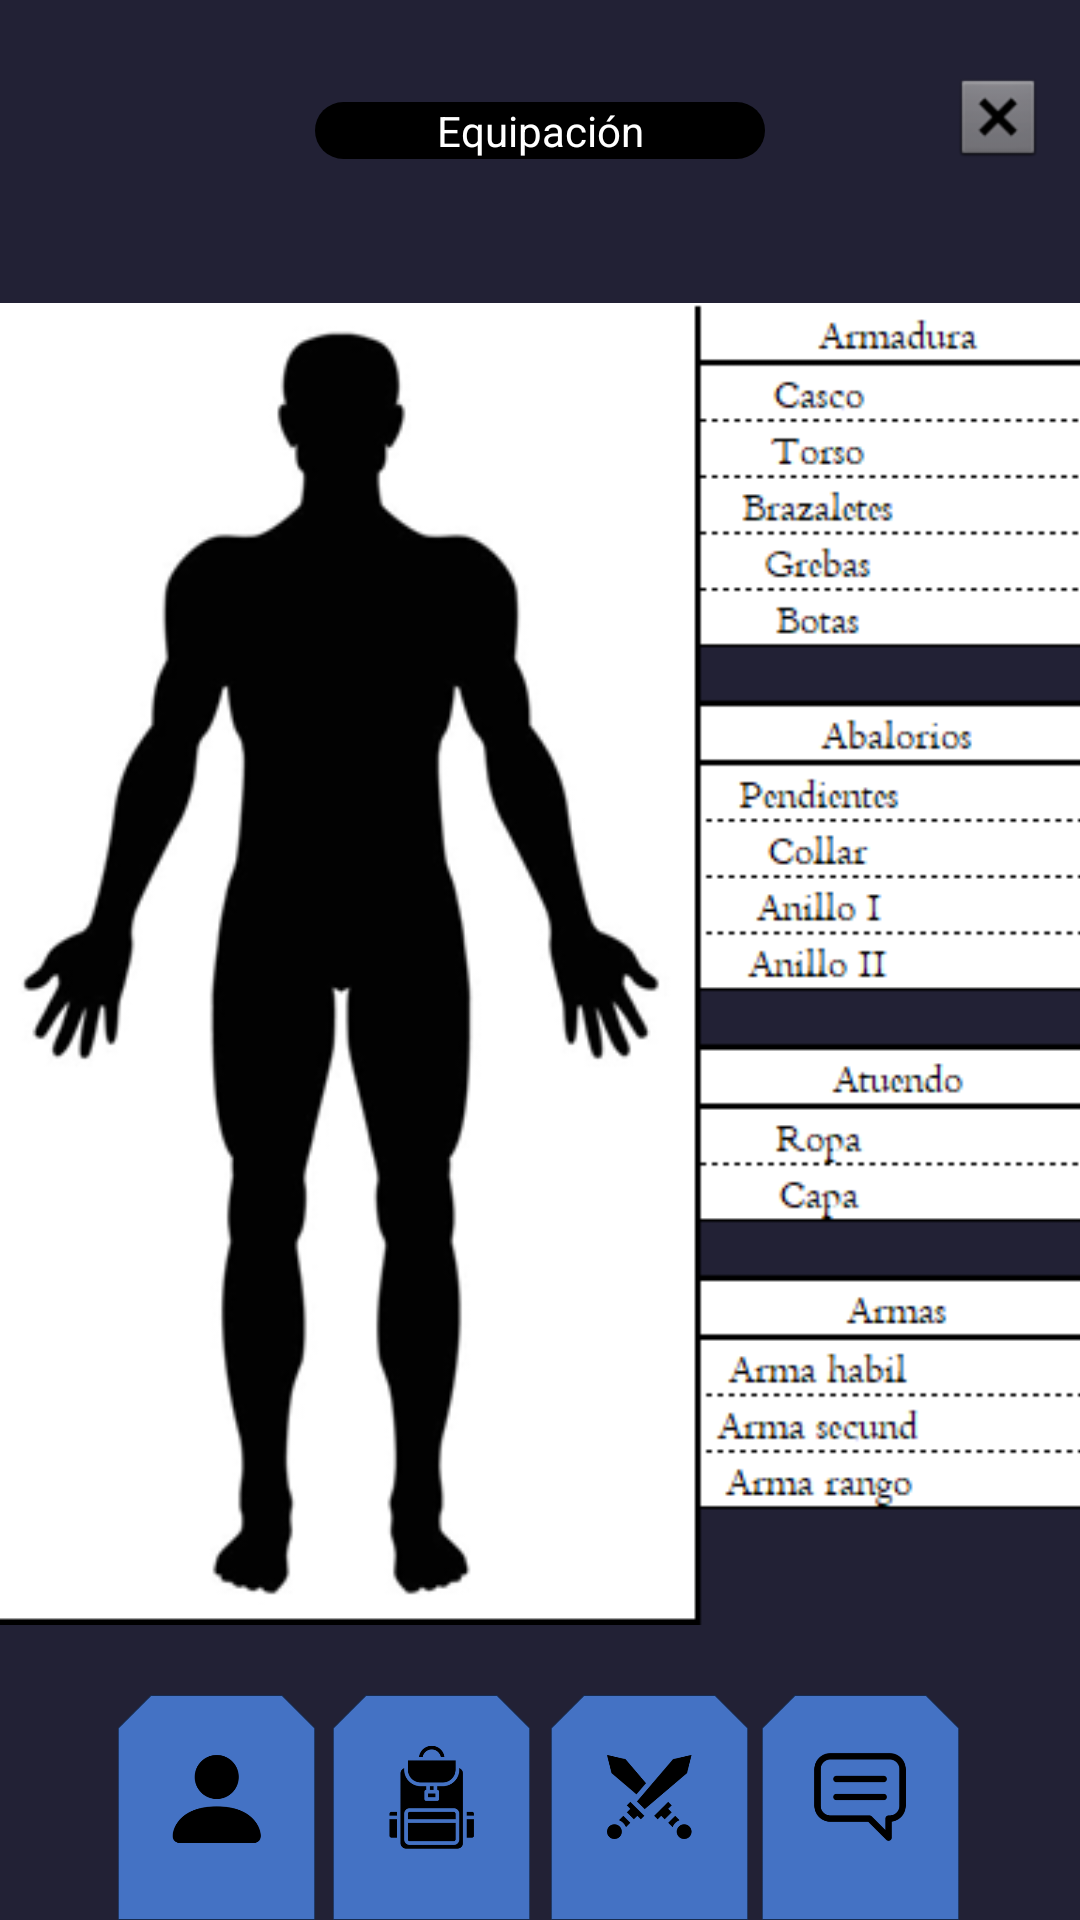

Locate icon controls on the screen. Image size 1080 × 1920, boxes as detection(x1, y1, x2, y2).
pestanya equipacion: detection(551, 1695, 748, 1920)
pestanya inventario: detection(333, 1695, 530, 1920)
pestanya pj: detection(118, 1695, 315, 1920)
